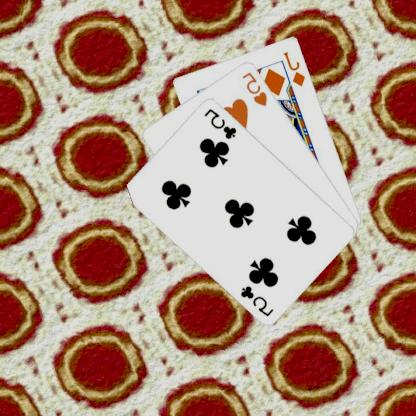5C: (203, 105, 240, 140), (240, 283, 276, 317)
5H: (240, 69, 270, 107)
JD: (282, 48, 309, 88)
